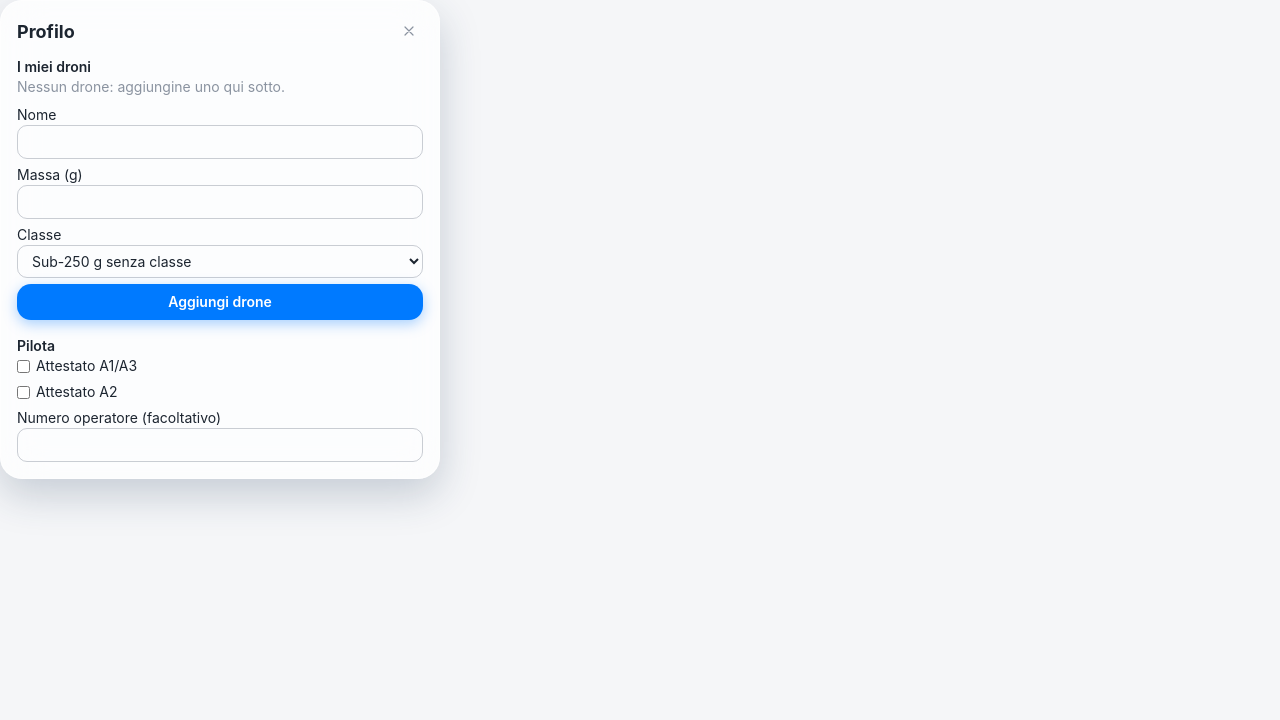
Test case: rifiuta una massa non positiva
The width and height of the screenshot is (1280, 720).
Type "Mini" into the field labelled "Nome" at coordinates (220, 142), box [17, 125, 423, 159]
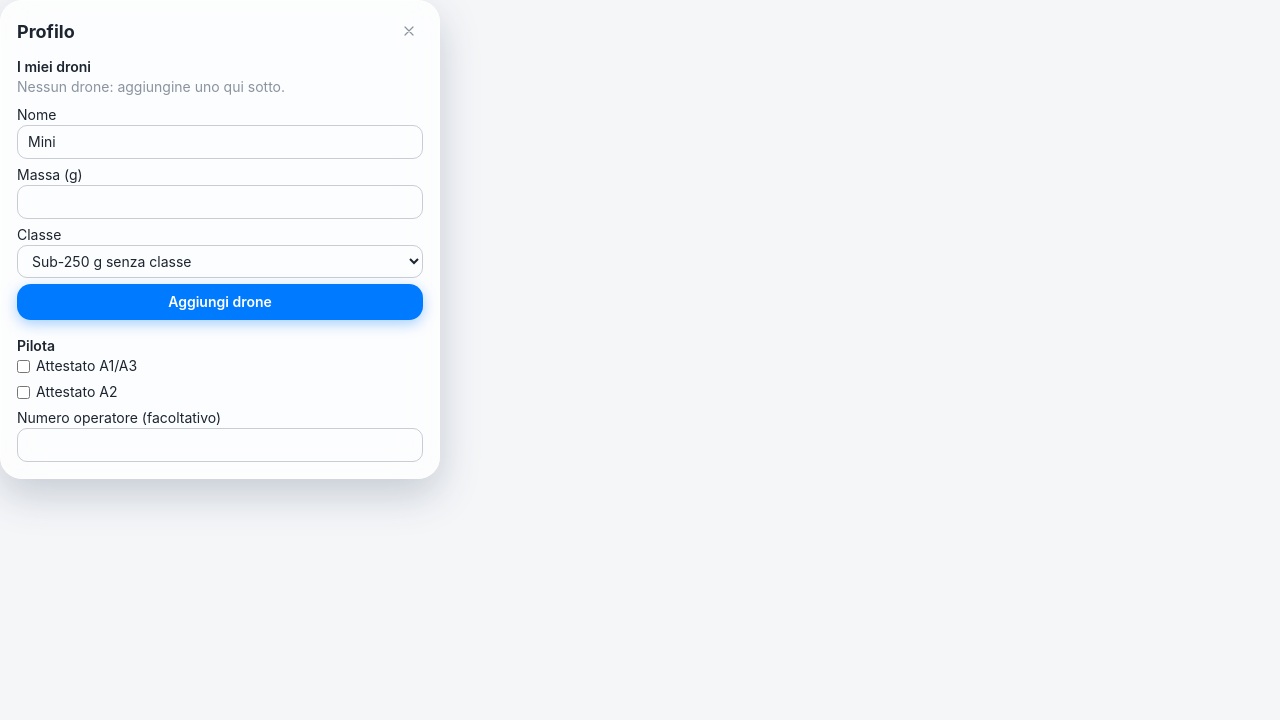
Type "0" into the number field labelled "Massa (g)" at coordinates (220, 202), box [17, 185, 423, 219]
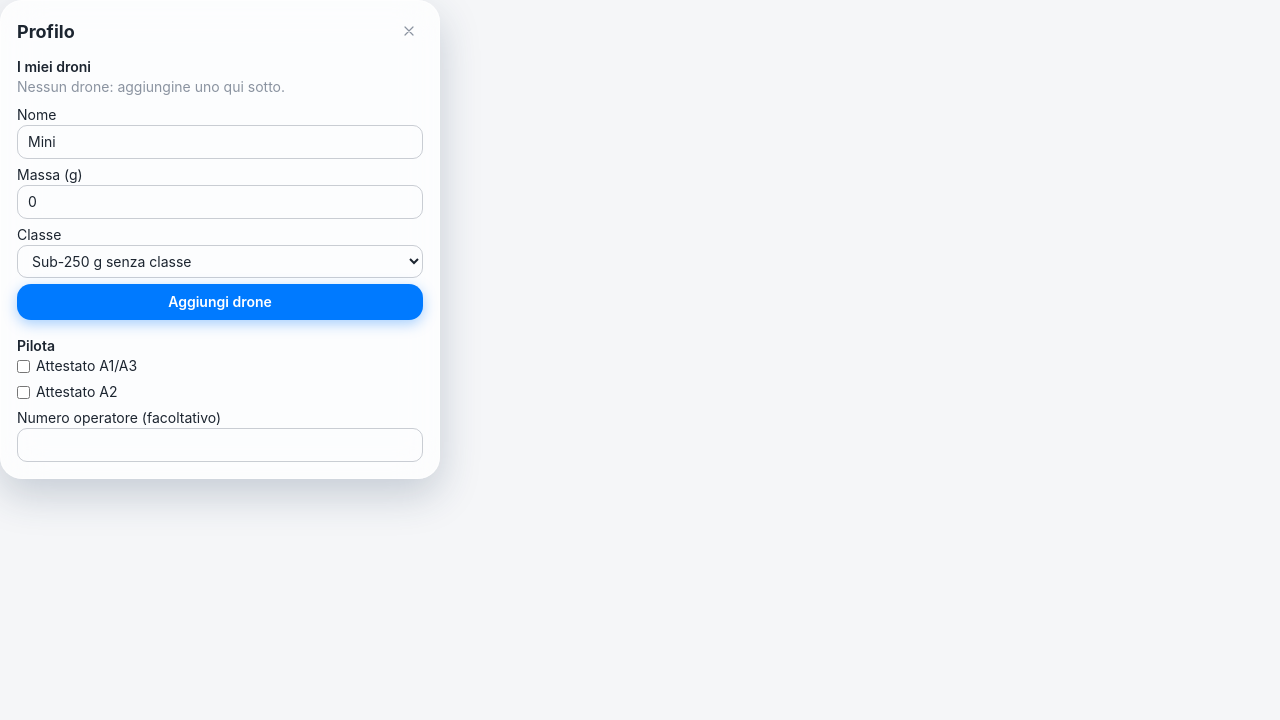
Click the button "Aggiungi drone" at coordinates (220, 302), box [17, 284, 423, 320]
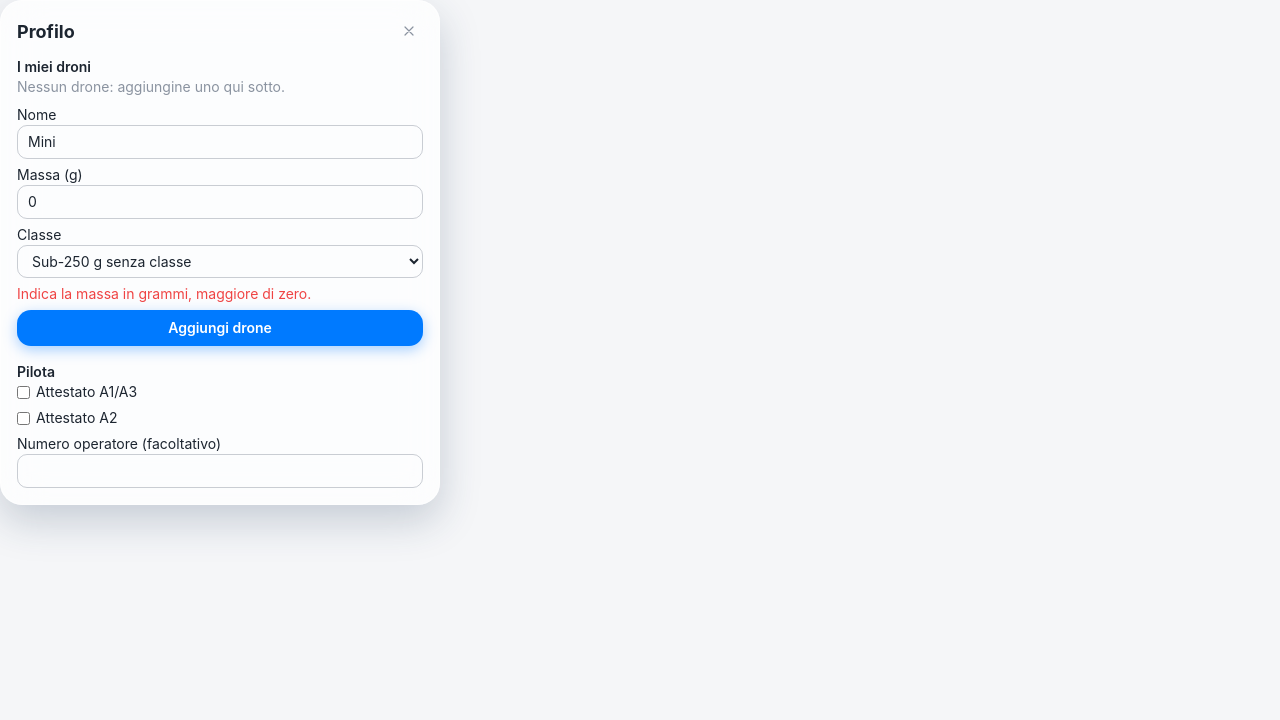
Now the text "Indica la massa in grammi, maggiore di zero." is shown, box [17, 285, 311, 302]
